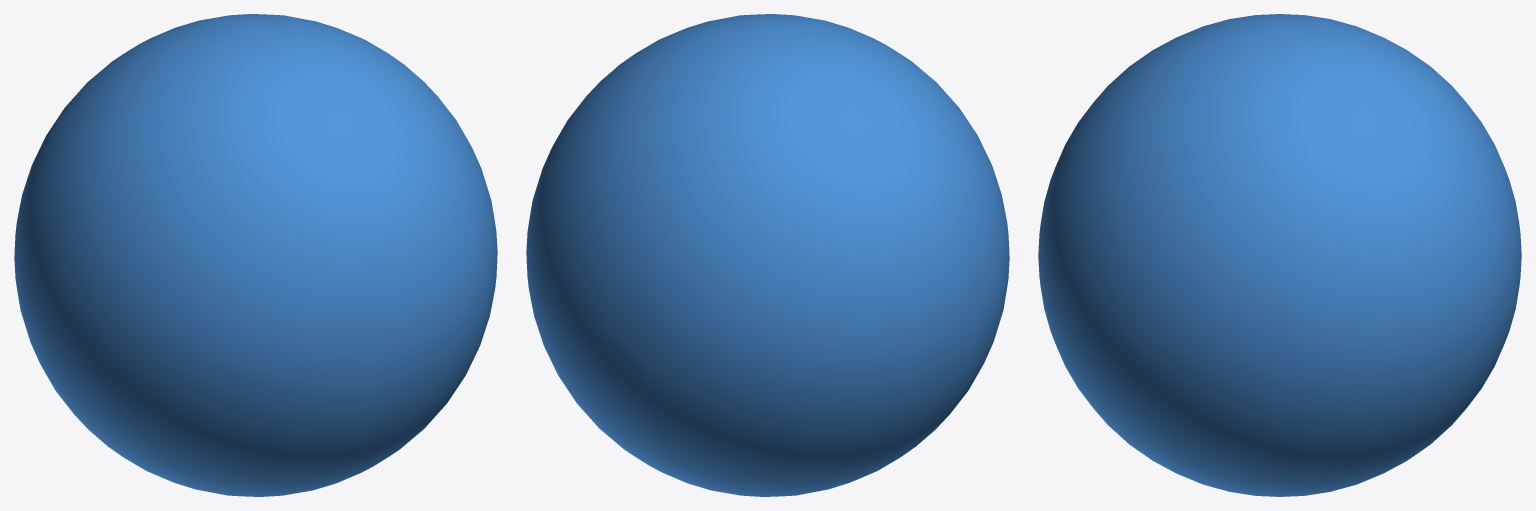
The model's file is expected.gltf.
3 renders of one model, left to right at view 1: azimuth 30°, elevation 25°; view 2: azimuth 150°, elevation 25°; view 3: azimuth 270°, elevation 25°, orthographic.
Bounding box in the file's own units: 20 × 20 × 20.
